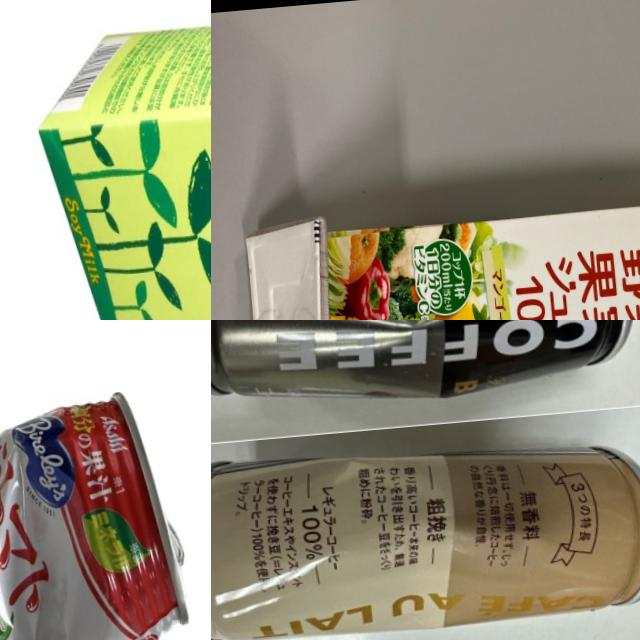Aluminium Foil: (234, 184, 640, 320), (41, 0, 211, 320)
Can: (211, 427, 640, 640), (0, 371, 202, 640), (211, 320, 640, 424)
